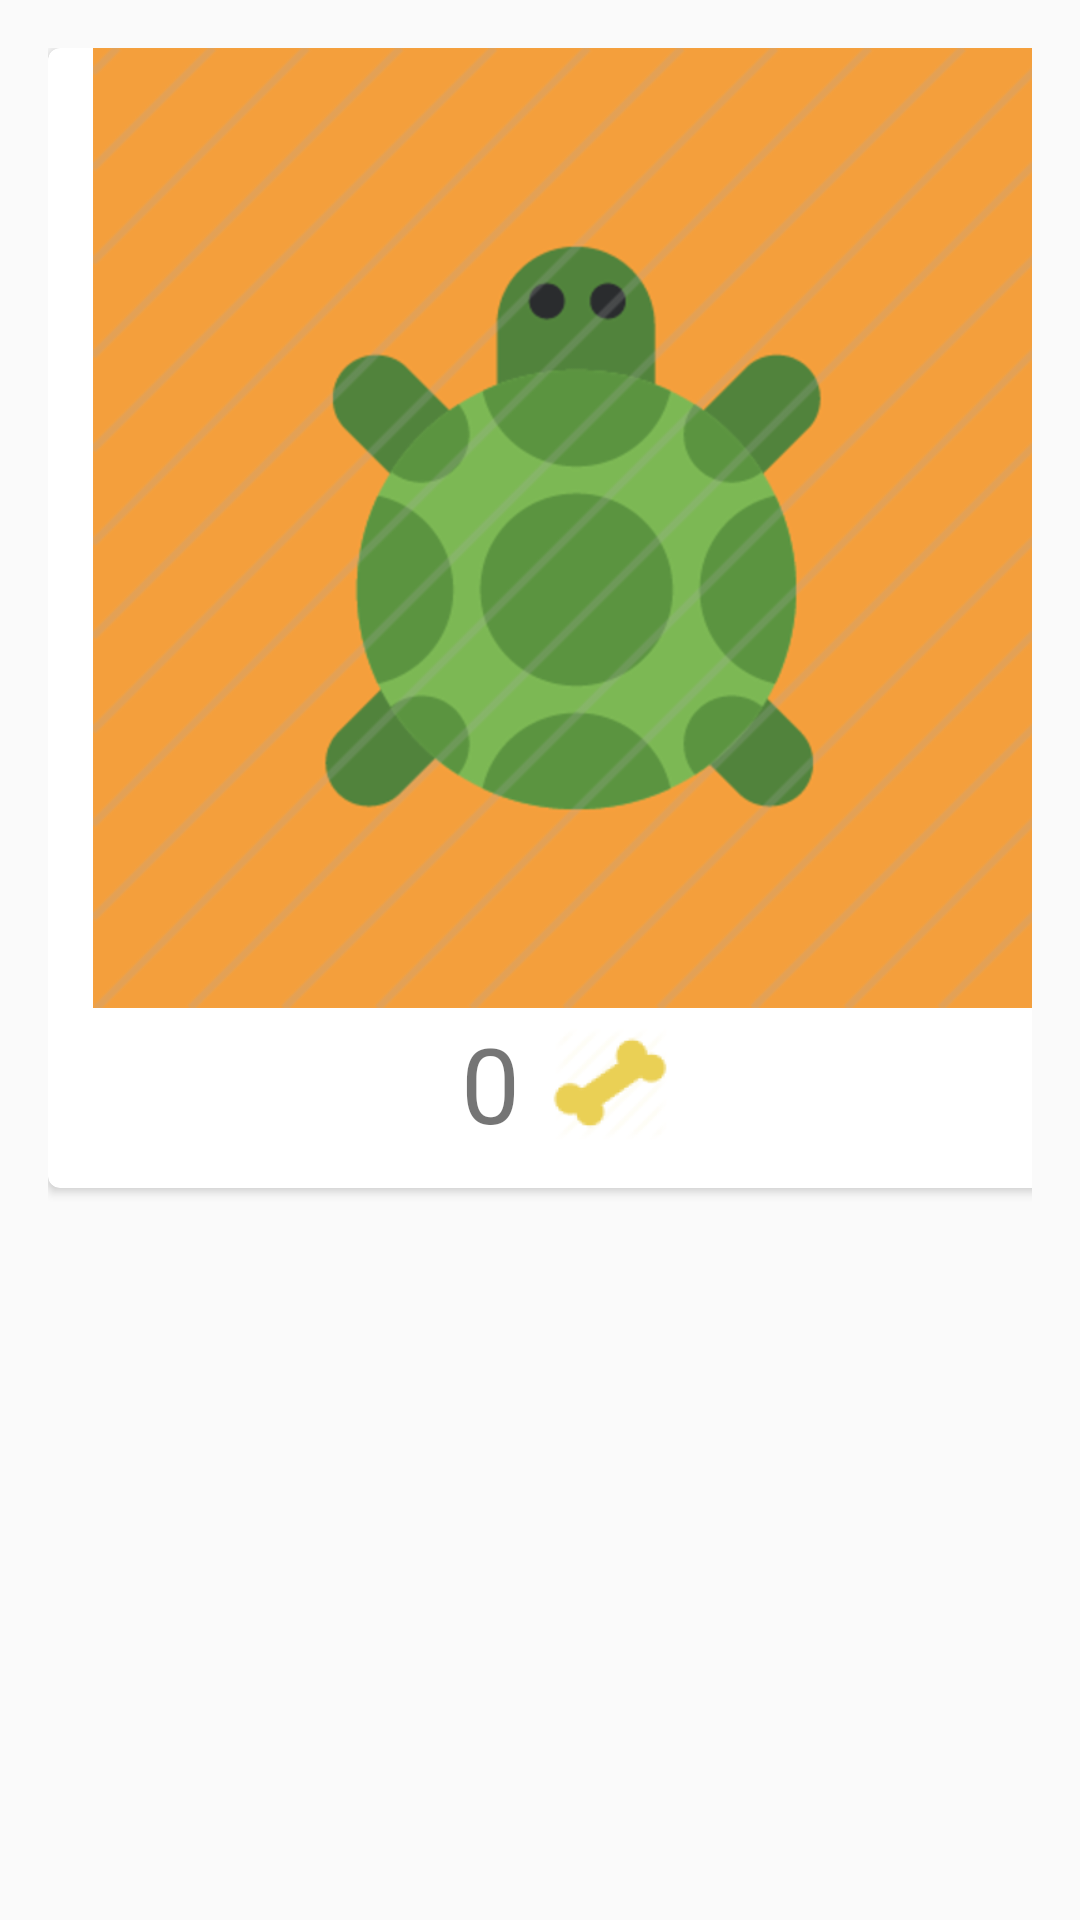

Screen size 1080 × 1920. Icon name, then its box in pixels as (x1, y1, x2, y2):
hueso amarillo: (554, 1038, 667, 1127)
